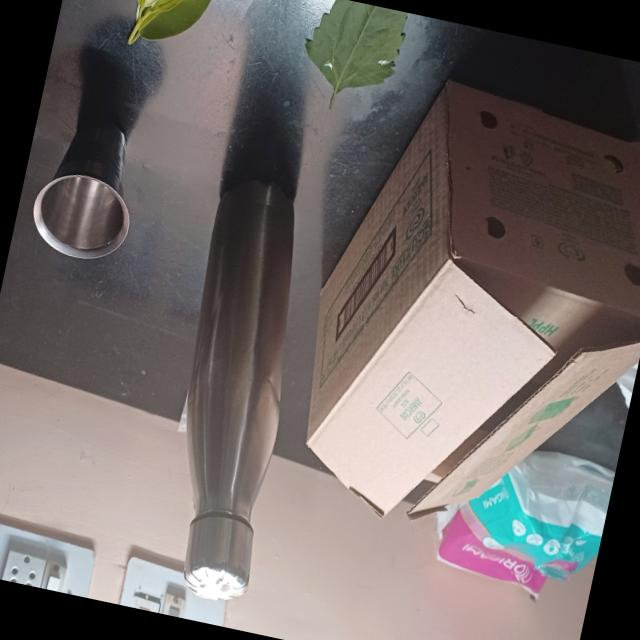CardBoard-Bio: (271, 50, 640, 562)
Leaf-Bio: (284, 0, 412, 127), (113, 0, 225, 65)
Steel-NonBio: (134, 163, 332, 609), (19, 103, 152, 273)
